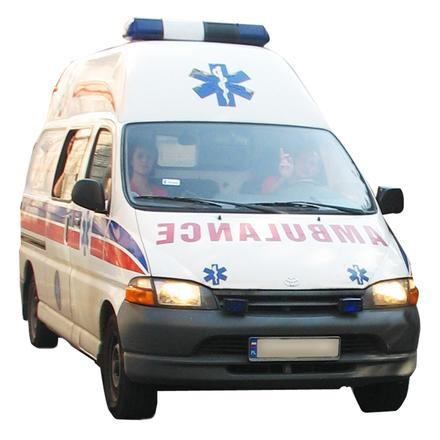car: (16, 33, 426, 424)
